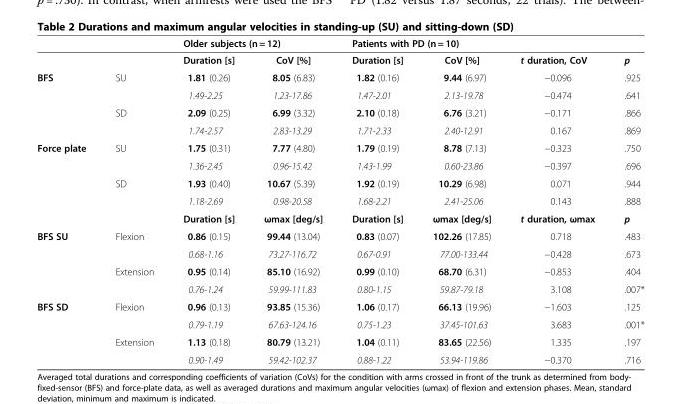table: (36, 37, 643, 365)
table column: (505, 37, 608, 365), (248, 37, 336, 365), (417, 37, 505, 365), (167, 37, 248, 365), (336, 37, 417, 365), (99, 37, 167, 365), (36, 37, 99, 365), (608, 37, 643, 365)
table column header: (36, 37, 643, 68)
table row: (36, 85, 643, 103), (36, 103, 643, 121), (36, 138, 643, 156), (36, 156, 643, 174), (36, 191, 643, 209), (36, 209, 643, 227), (36, 244, 643, 262), (36, 262, 643, 280), (36, 297, 643, 315), (36, 332, 643, 350), (36, 51, 643, 68), (36, 68, 643, 85), (36, 121, 643, 138), (36, 174, 643, 191), (36, 227, 643, 244), (36, 280, 643, 297), (36, 315, 643, 332), (36, 350, 643, 365), (36, 37, 643, 51)
table spanning cell: (36, 138, 99, 227), (36, 68, 99, 138), (36, 227, 99, 297), (36, 297, 99, 365), (505, 37, 608, 68), (167, 37, 336, 51), (336, 37, 505, 51), (608, 37, 643, 68)
